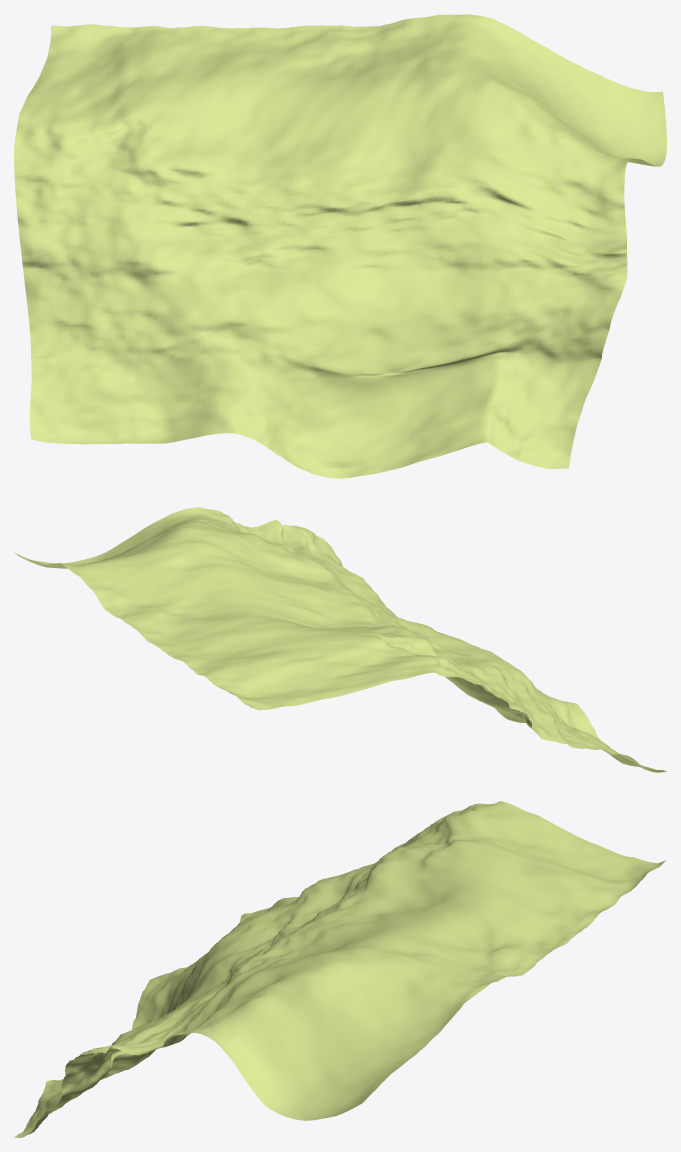
File: Cliff_013.fbx
3 renders of one model, top to bottom at view 1: azimuth 30°, elevation 25°; view 2: azimuth 150°, elevation 25°; view 3: azimuth 270°, elevation 25°, orthographic. The views are drawn at different scales.
Parts seen in each view (by area): view 1: Plane.013; view 2: Plane.013; view 3: Plane.013.
Part boxes in pixels (x1,y1,x2,y2): Plane.013: [14, 14, 666, 478]; Plane.013: [14, 507, 666, 772]; Plane.013: [14, 801, 666, 1137].
Bounding box in the file's own units: 907 × 306 × 803.
